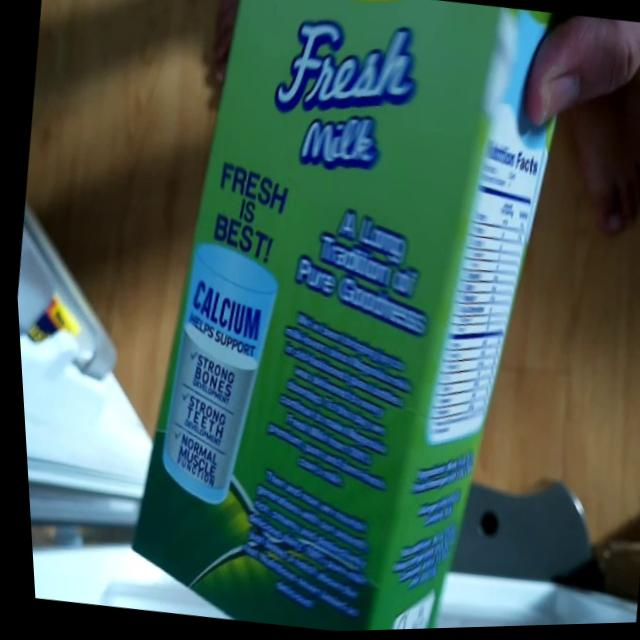milk: (86, 0, 603, 638)
